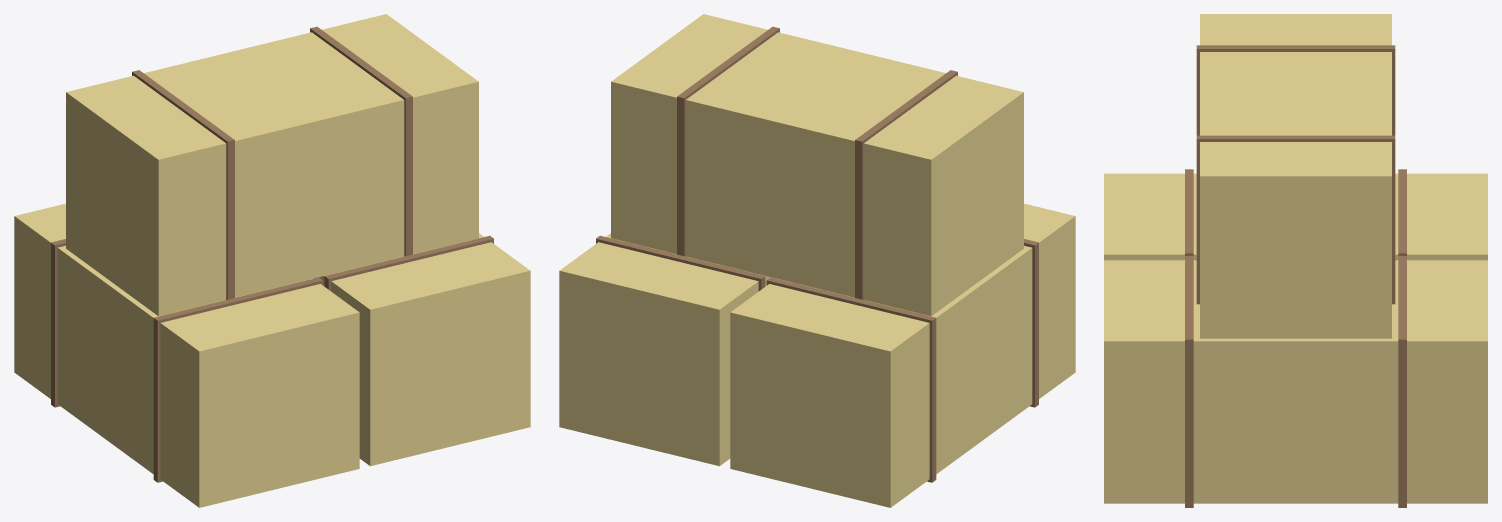
File: VJ_Paca.fbx
The picture shows the model from 3 angles, left to right: view 1: azimuth 30°, elevation 25°; view 2: azimuth 150°, elevation 25°; view 3: azimuth 270°, elevation 25°; orthographic projection. The views are drawn at different scales.
Visible parts, largest first — view 1: VJ_Paca; view 2: VJ_Paca; view 3: VJ_Paca.
Part boxes in pixels (bbox=[...]): VJ_Paca: bbox=[14, 14, 530, 507]; VJ_Paca: bbox=[559, 14, 1075, 507]; VJ_Paca: bbox=[1104, 14, 1487, 507].
Bounding box in the file's own units: 1.89 × 1.71 × 1.8.
